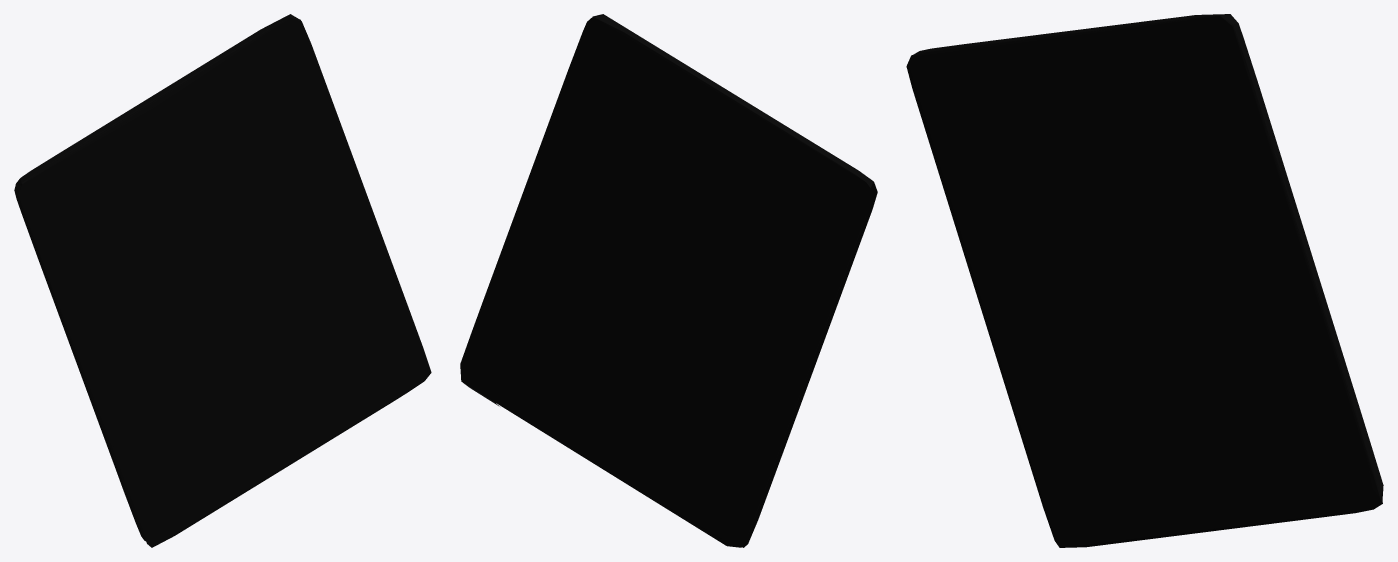
File: notepad.dae
3 views of the same model, side by side, from view 1: azimuth 30°, elevation 25°; view 2: azimuth 150°, elevation 25°; view 3: azimuth 330°, elevation 25° (orthographic). The views are drawn at different scales.
Parts seen in each view (by area): view 1: node; view 2: node; view 3: node.
Boxes of the visible parts, x1,y1,x2,y2 form: node: [14, 14, 431, 547]; node: [460, 14, 877, 547]; node: [906, 14, 1383, 547].
Size of the model in its own units: 0.2327 by 0.2667 by 0.00483.
1 material, 1 textured.
